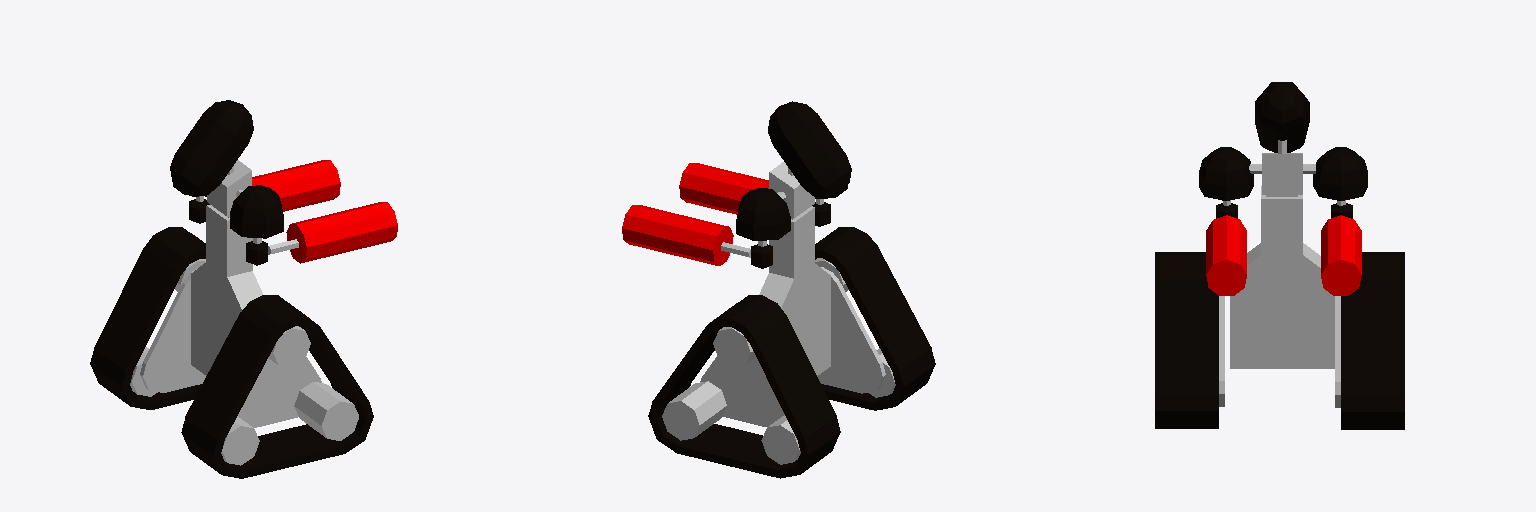
The model's file is soldier.obj.
3 views of the same model, side by side, from view 1: azimuth 30°, elevation 25°; view 2: azimuth 150°, elevation 25°; view 3: azimuth 270°, elevation 25° (orthographic).
Size of the model in its own units: 1.54 by 2.23 by 1.59.